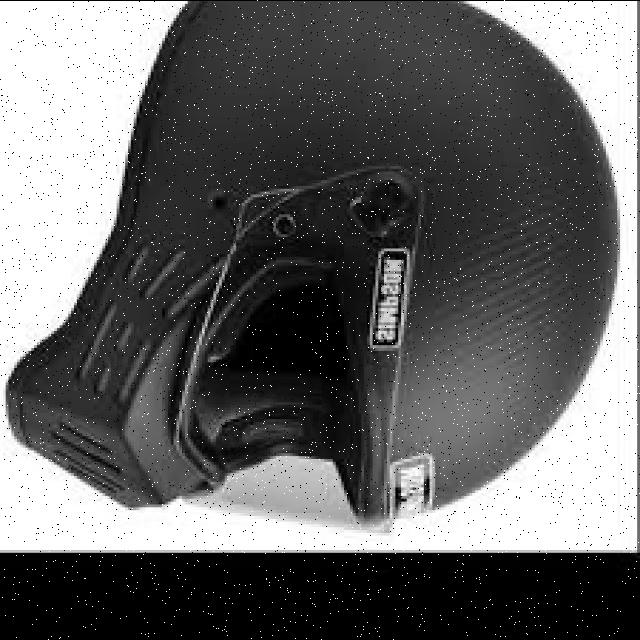Helmet: (8, 0, 614, 529)
